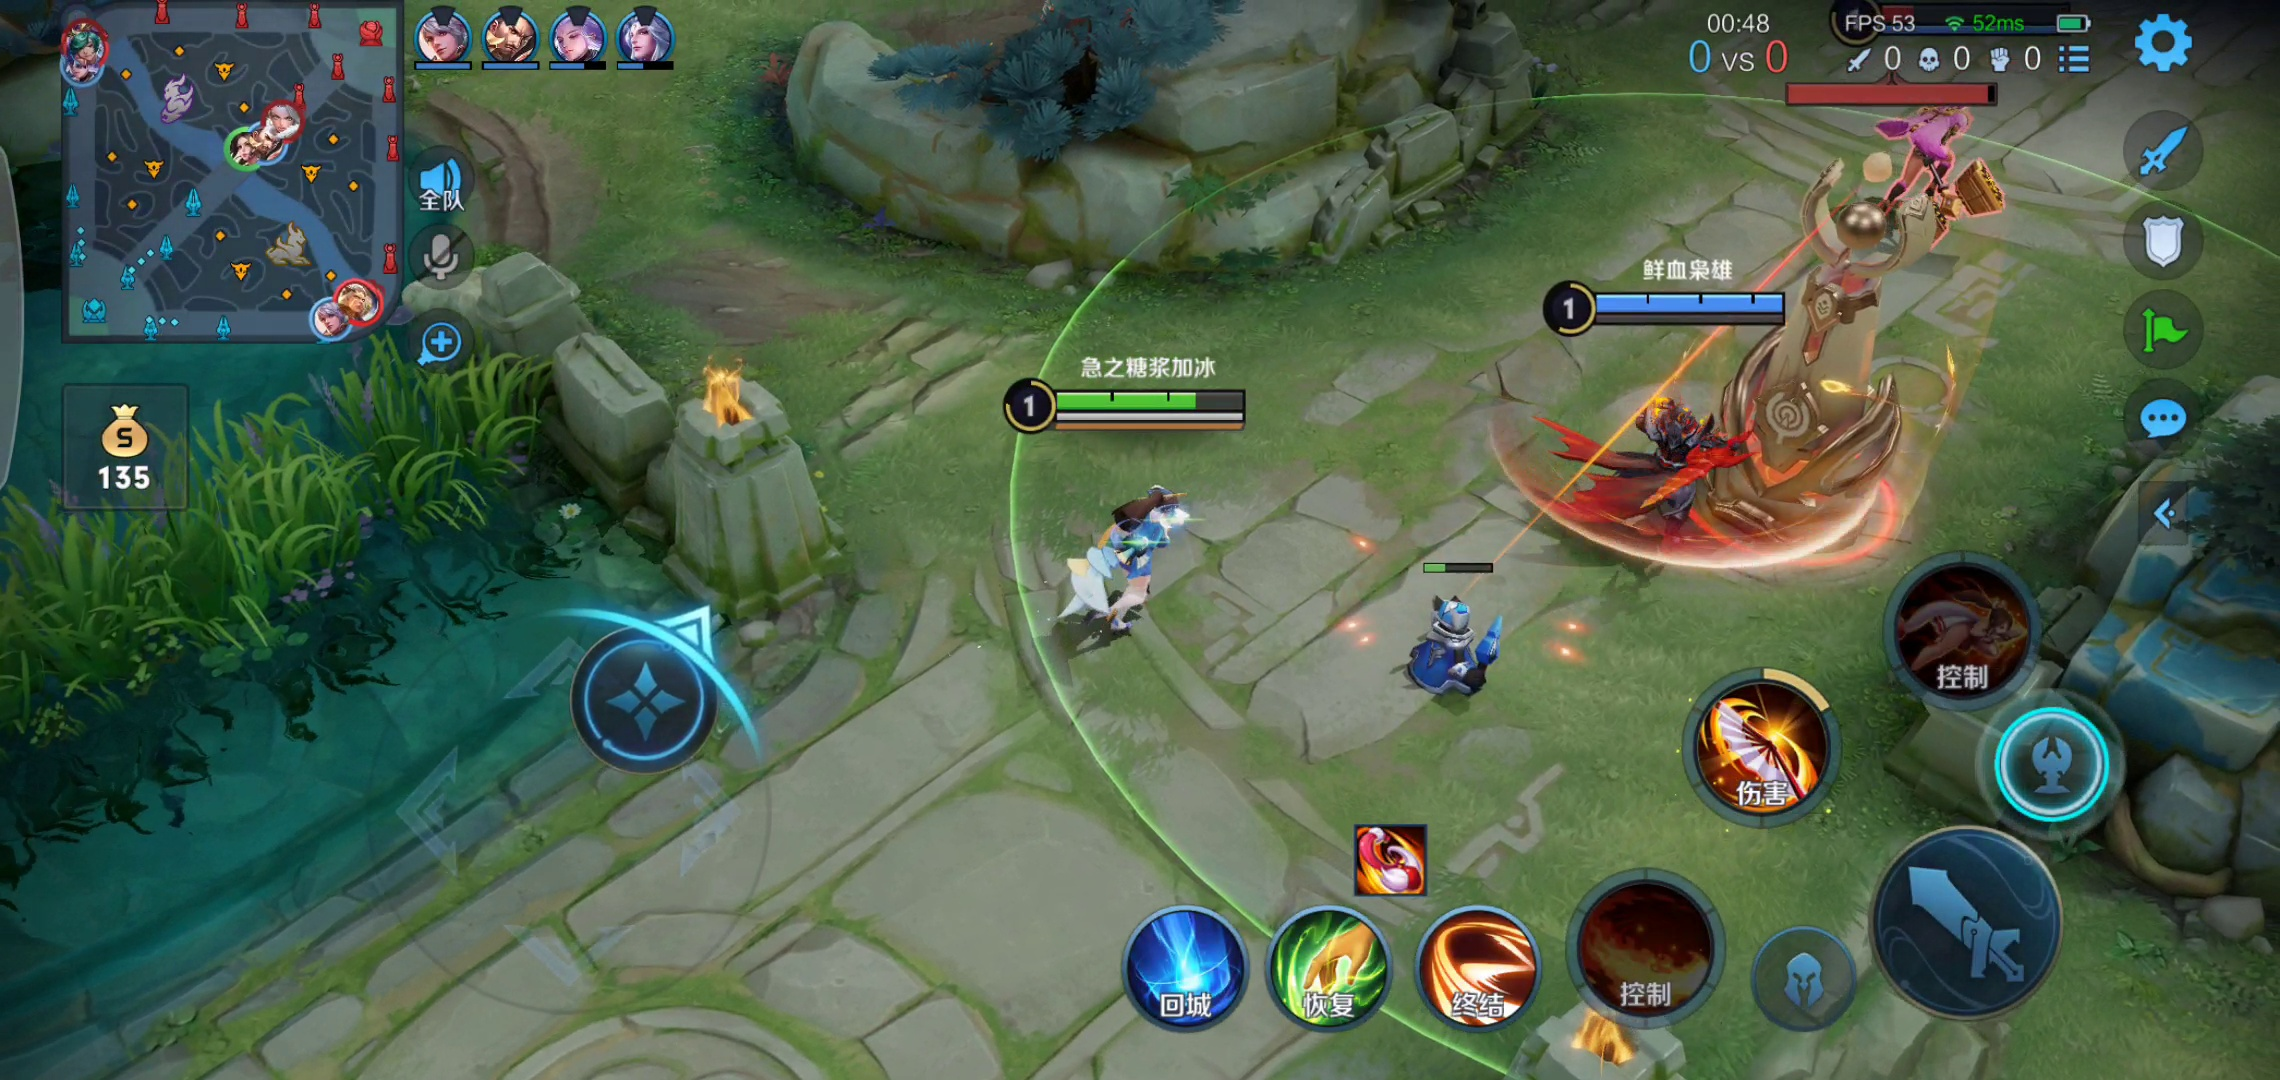grass: (1, 363, 571, 698)
hero: (1541, 398, 1723, 560), (1038, 472, 1198, 645), (1873, 84, 2023, 254)
soldier: (1406, 583, 1514, 725)
tower: (1738, 145, 1943, 565)
